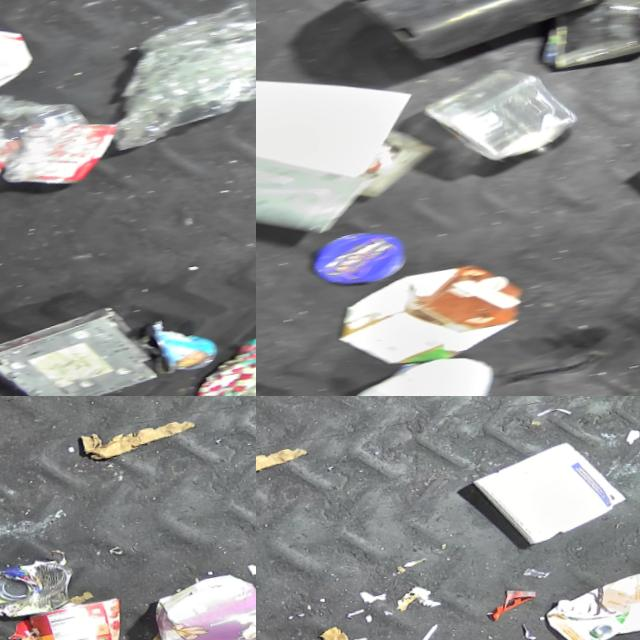can: (0, 112, 134, 200), (534, 0, 640, 71), (0, 549, 90, 623), (32, 589, 142, 640), (0, 114, 46, 210)
milk_jug: (346, 339, 518, 396)
non_white_jug: (145, 556, 256, 640), (545, 552, 640, 640)
plastic_bottle: (0, 382, 168, 396)
